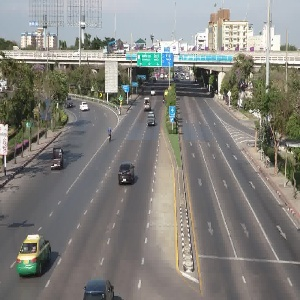car: (9, 229, 58, 281), (112, 159, 140, 186)
motorcycle: (103, 124, 118, 144)
